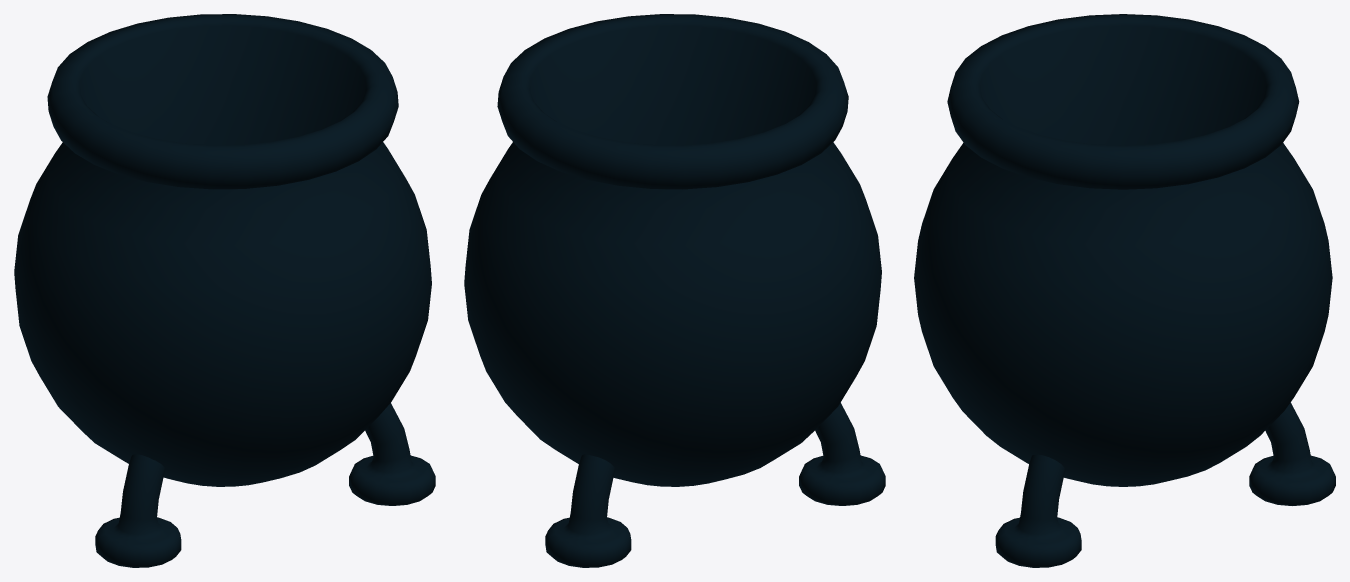
Rendered from Cauldron.fbx.
3 views of the same model, side by side, from view 1: azimuth 30°, elevation 25°; view 2: azimuth 150°, elevation 25°; view 3: azimuth 270°, elevation 25° (orthographic).
Visible parts, largest first — view 1: Empty; view 2: Empty; view 3: Empty.
Part boxes in pixels (left/top/right/bottom): Empty: left=14, top=14, right=435, bottom=567; Empty: left=464, top=14, right=885, bottom=567; Empty: left=914, top=14, right=1335, bottom=567.
Size of the model in its own units: 123 by 132 by 124.
